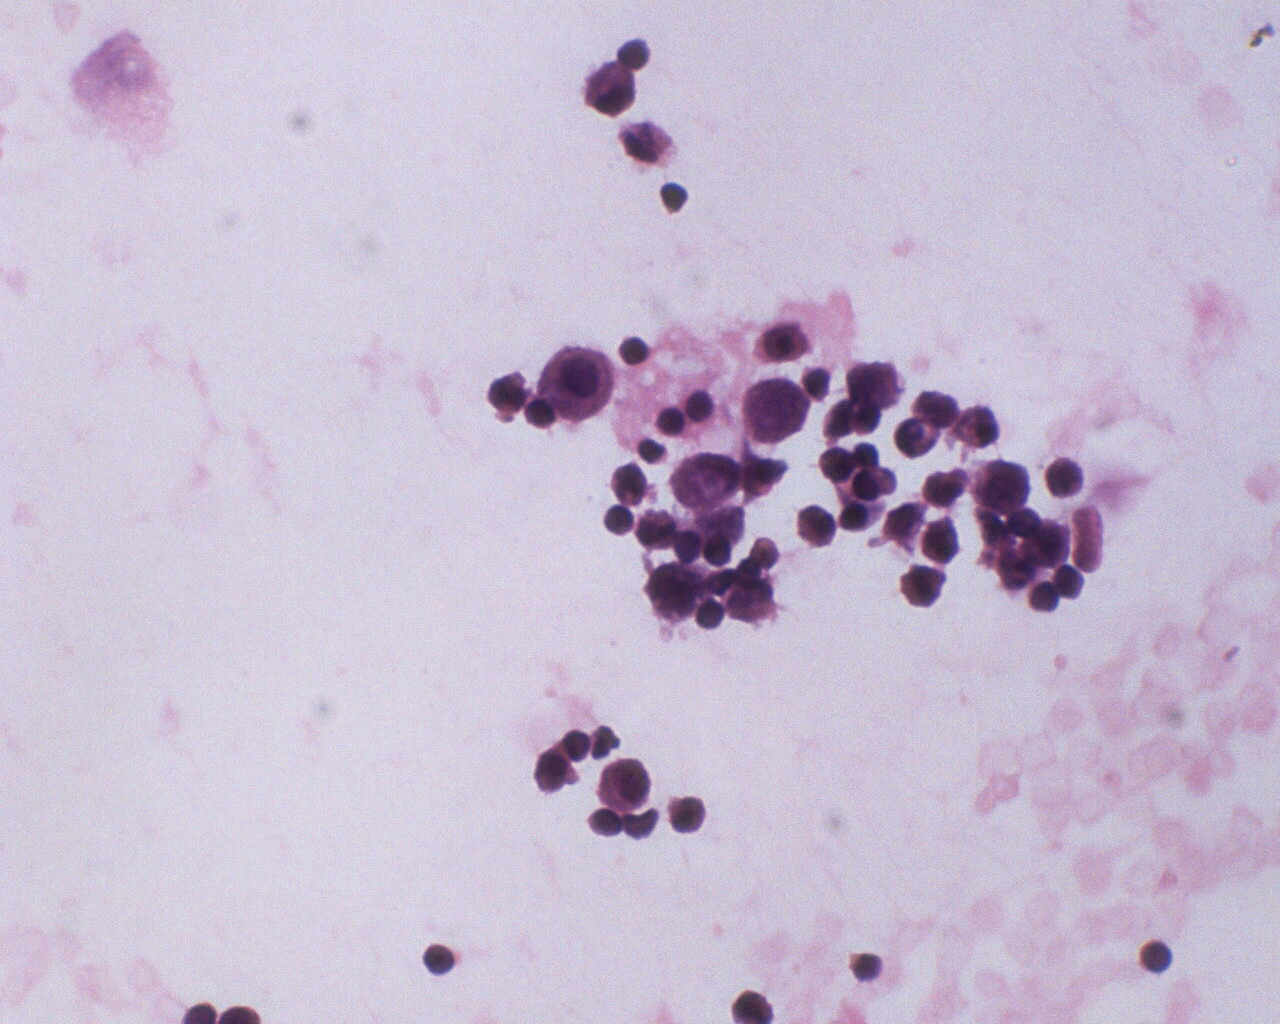ab: (742, 373, 812, 451), (972, 453, 1033, 514)
lymph: (1131, 938, 1177, 981), (420, 938, 457, 982), (612, 330, 653, 369), (602, 501, 639, 541), (655, 177, 690, 218), (654, 403, 688, 438)
meso: (540, 340, 618, 430), (594, 754, 654, 812)
